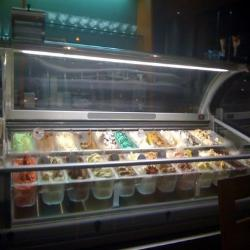icecream: (11, 160, 40, 190), (11, 128, 37, 159), (53, 129, 84, 155), (98, 131, 120, 152)
